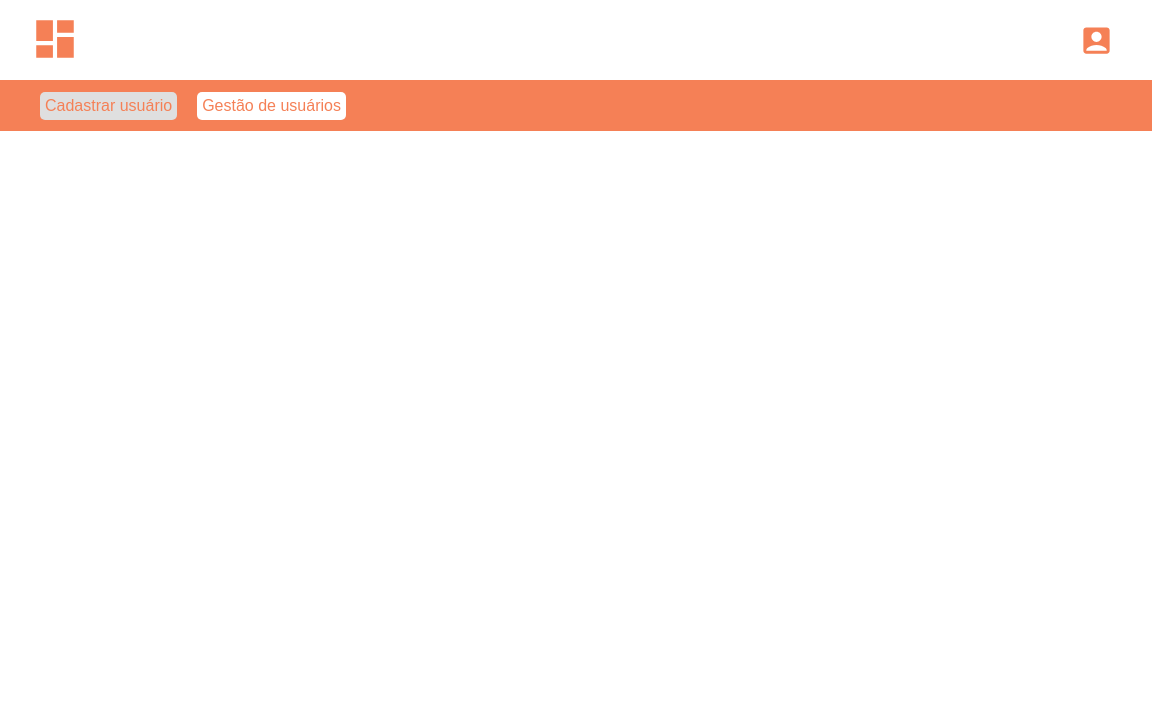
it: Tests Header › should render Header component and click in the link Gestão de usuários
Click the link "Gestão de usuários" at (272, 106), box [197,92,346,120]
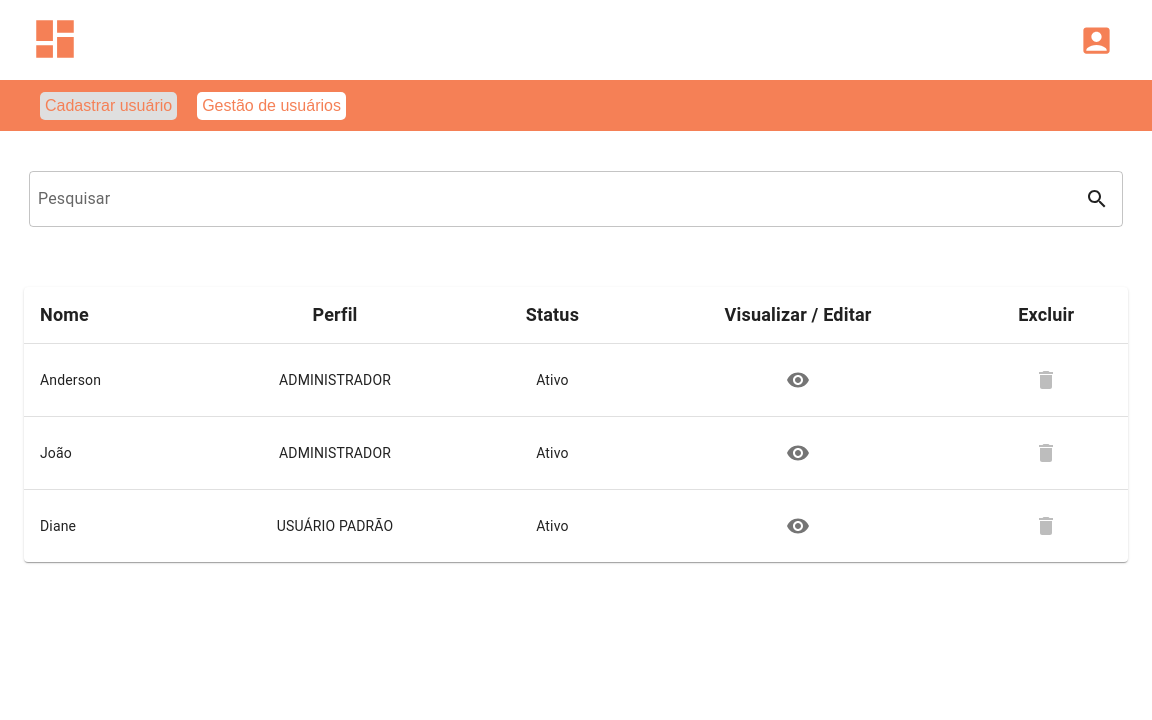
Expected: the column heading "Excluir" is shown, [964,287,1128,344]
